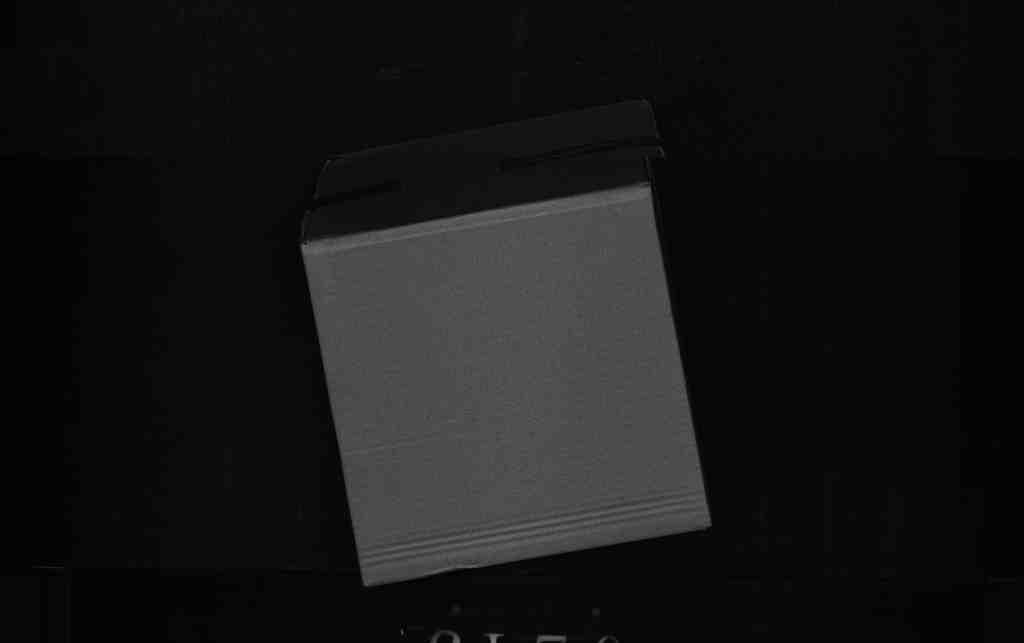box: (306, 126, 718, 596)
